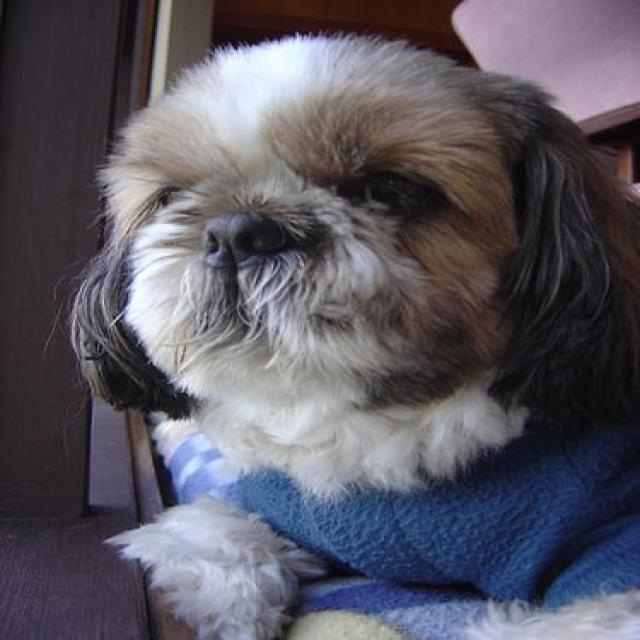shih_tzu: (61, 28, 636, 638)
